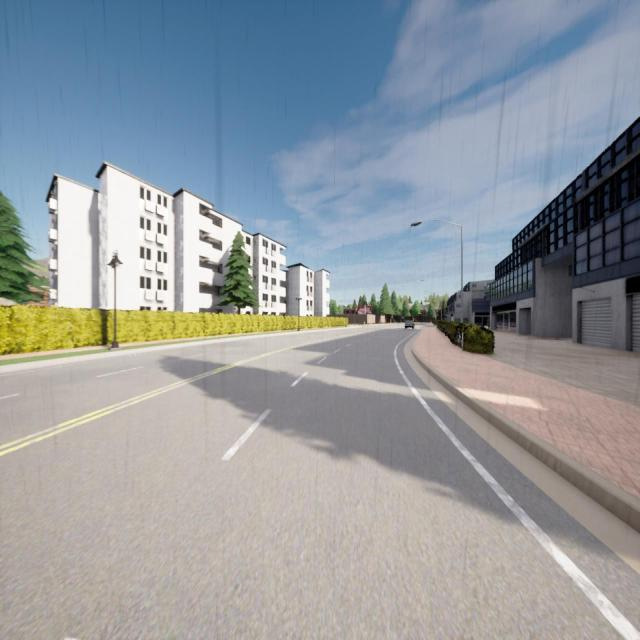Vehicle: (405, 320, 415, 330)
